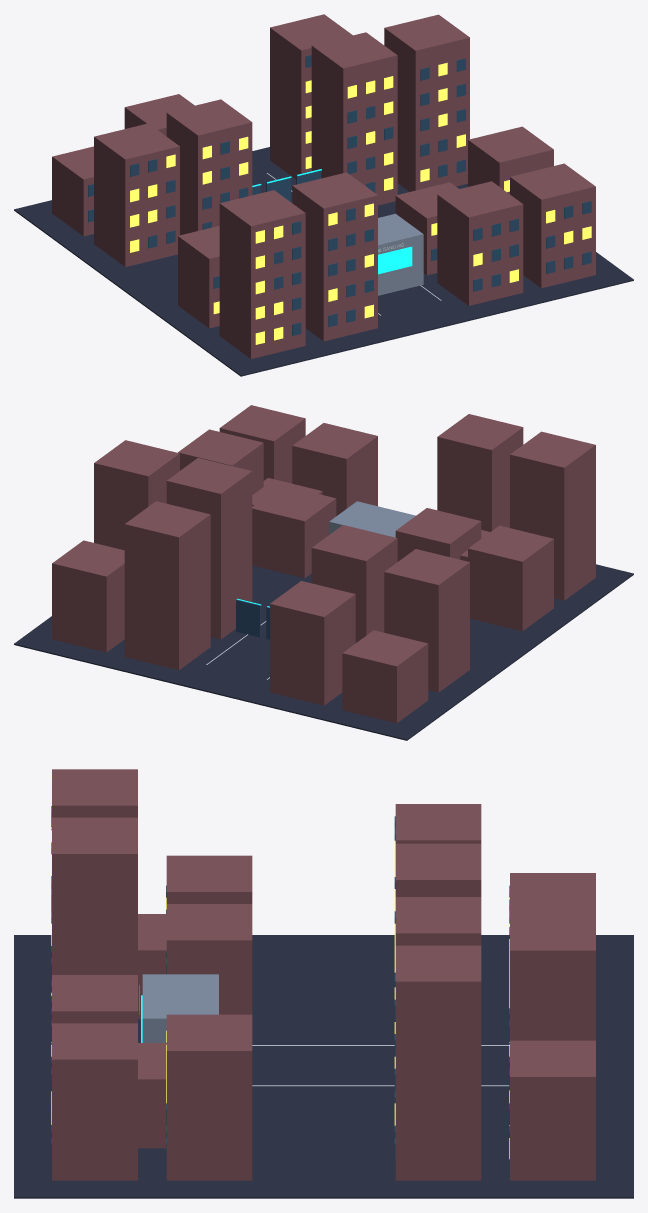
The model's file is trade_gang_hq.glb.
The picture shows the model from 3 angles, top to bottom: view 1: azimuth 30°, elevation 25°; view 2: azimuth 150°, elevation 25°; view 3: azimuth 270°, elevation 25°; orthographic projection. The views are drawn at different scales.
Visible parts, largest first — view 1: street, apartment_-24_-24, apartment_12_12, apartment_24_12, apartment_-12_-24, apartment_-24_12, apartment_12_-24, apartment_24_-24, apartment_-12_12, apartment_12_24, apartment_24_-12, apartment_-24_-12 (+5 smaller); view 2: street, apartment_12_24, apartment_-24_-24, apartment_-24_12, apartment_-12_24, apartment_12_12, apartment_-12_-24, apartment_-24_-12, apartment_24_24, apartment_-24_24, apartment_24_12, apartment_-12_12 (+8 smaller); view 3: street, apartment_24_12, apartment_24_-12, apartment_-12_-24, apartment_24_-24, apartment_24_24, apartment_12_24, apartment_-12_-12, apartment_-12_12, apartment_12_12, apartment_-24_-12, apartment_-24_-24 (+6 smaller).
Boxes of the visible parts, bbox=[...] form: street: bbox=[14, 147, 633, 376]; apartment_-24_-24: bbox=[219, 190, 305, 358]; apartment_12_12: bbox=[311, 32, 397, 205]; apartment_24_12: bbox=[384, 14, 469, 191]; apartment_-12_-24: bbox=[292, 172, 377, 341]; apartment_-24_12: bbox=[94, 123, 179, 266]; apartment_12_-24: bbox=[437, 181, 523, 305]; apartment_24_-24: bbox=[510, 163, 595, 288]; apartment_-12_12: bbox=[166, 99, 252, 235]; apartment_12_24: bbox=[270, 14, 352, 179]; apartment_24_-12: bbox=[468, 126, 553, 193]; apartment_-24_-12: bbox=[178, 226, 219, 328]; street: bbox=[14, 564, 633, 740]; apartment_12_24: bbox=[124, 501, 210, 669]; apartment_-24_-24: bbox=[510, 431, 595, 600]; apartment_-24_12: bbox=[384, 549, 469, 692]; apartment_-12_24: bbox=[270, 581, 355, 705]; apartment_12_12: bbox=[166, 458, 252, 639]; apartment_-12_-24: bbox=[437, 414, 523, 531]; apartment_-24_-12: bbox=[468, 525, 553, 631]; apartment_24_24: bbox=[52, 540, 124, 652]; apartment_-24_24: bbox=[342, 630, 428, 723]; apartment_24_12: bbox=[94, 440, 179, 550]; apartment_-12_12: bbox=[311, 525, 397, 642]; street: bbox=[14, 935, 633, 1198]; apartment_24_12: bbox=[395, 945, 481, 1180]; apartment_24_-12: bbox=[166, 1014, 252, 1180]; apartment_-12_-24: bbox=[52, 817, 137, 974]; apartment_24_-24: bbox=[52, 1023, 137, 1180]; apartment_24_24: bbox=[510, 1040, 595, 1180]; apartment_12_24: bbox=[510, 914, 595, 1040]; apartment_-12_-12: bbox=[166, 904, 252, 1014]; apartment_-12_12: bbox=[395, 843, 481, 896]; apartment_12_12: bbox=[395, 897, 481, 945]; apartment_-24_-12: bbox=[166, 855, 252, 903]; apartment_-24_-24: bbox=[52, 769, 137, 817].
Size of the model in its own units: 65 by 23.22 by 65.
